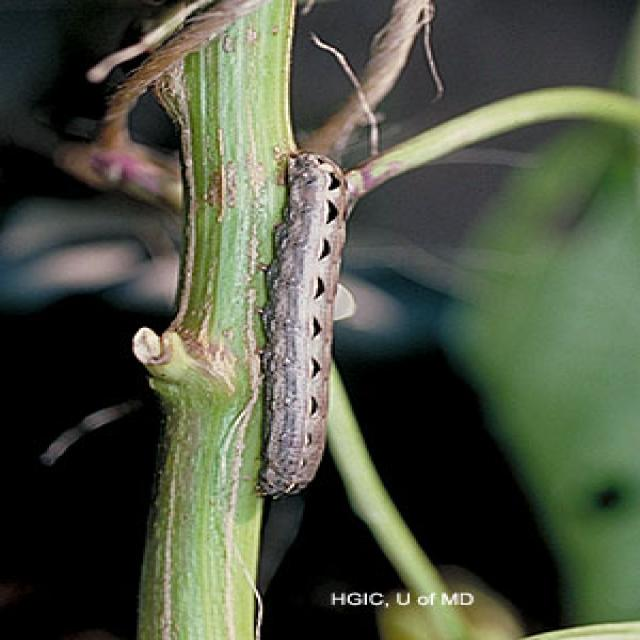Cutworm: (261, 147, 342, 504)
